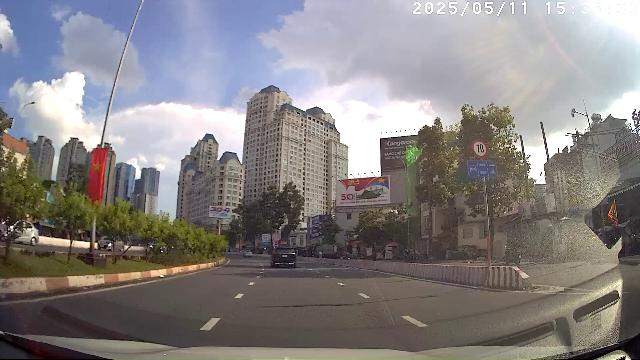127-toc-do-toi-da-70: (472, 138, 488, 158)
